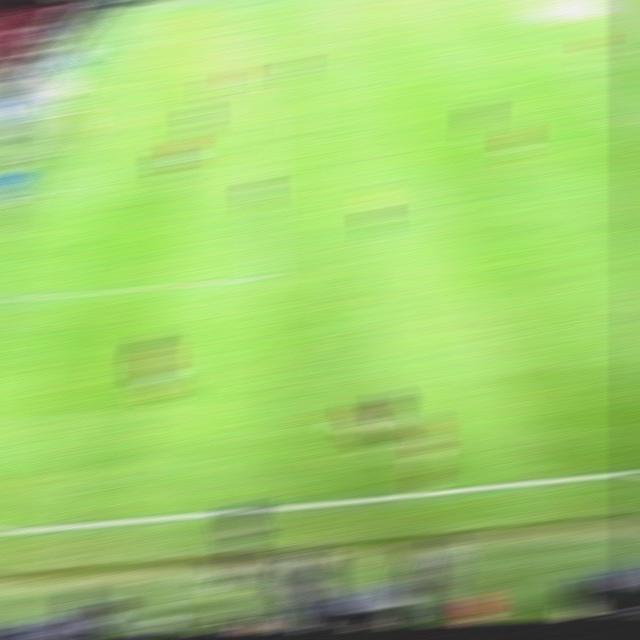bigarea_bottom_inner: (250, 267, 277, 283)
bigarea_top_inner: (247, 30, 269, 39)
bigarea_top_outter: (90, 41, 121, 52)
bottom_arc_area_intersection: (252, 158, 274, 168)
corner: (111, 8, 141, 13)
halfcircle_top: (625, 45, 640, 53)
smallarea_bottom_inner: (89, 180, 114, 192)
smallarea_bottom_outter: (13, 187, 36, 195)
smallarea_top_inner: (127, 81, 150, 90)
smallarea_top_outter: (65, 84, 96, 97)
top_arc_area_intersection: (250, 77, 273, 86)
